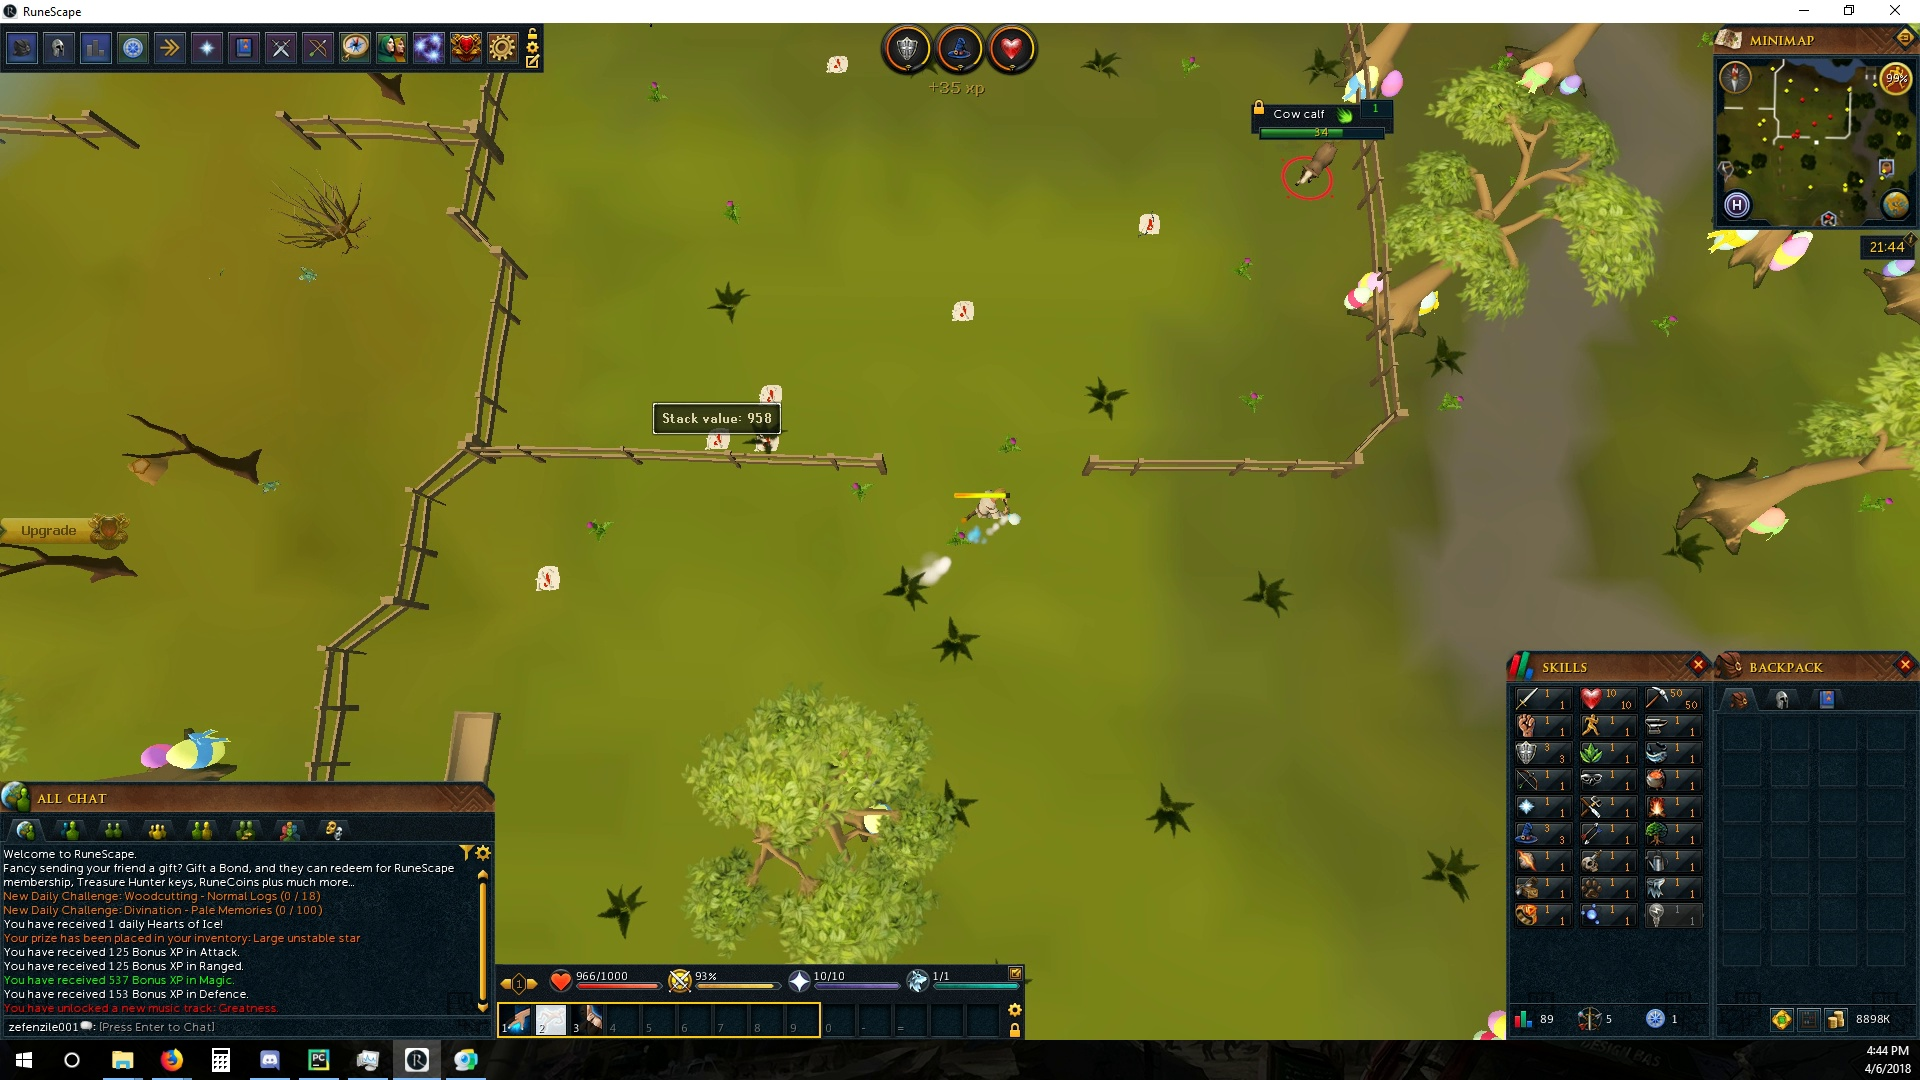calf: (1287, 138, 1338, 189)
cow_drop: (529, 560, 564, 591), (944, 298, 980, 326), (819, 53, 855, 78), (705, 426, 735, 454), (756, 378, 785, 406), (1133, 208, 1160, 237)
